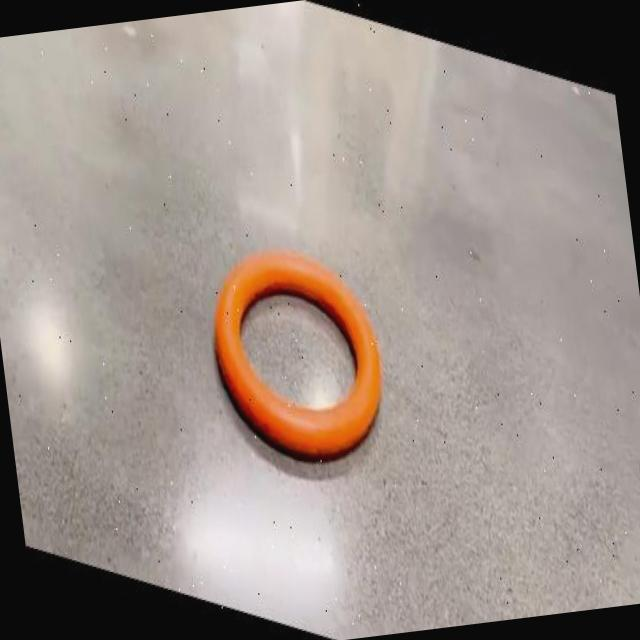note: (214, 250, 381, 455)
